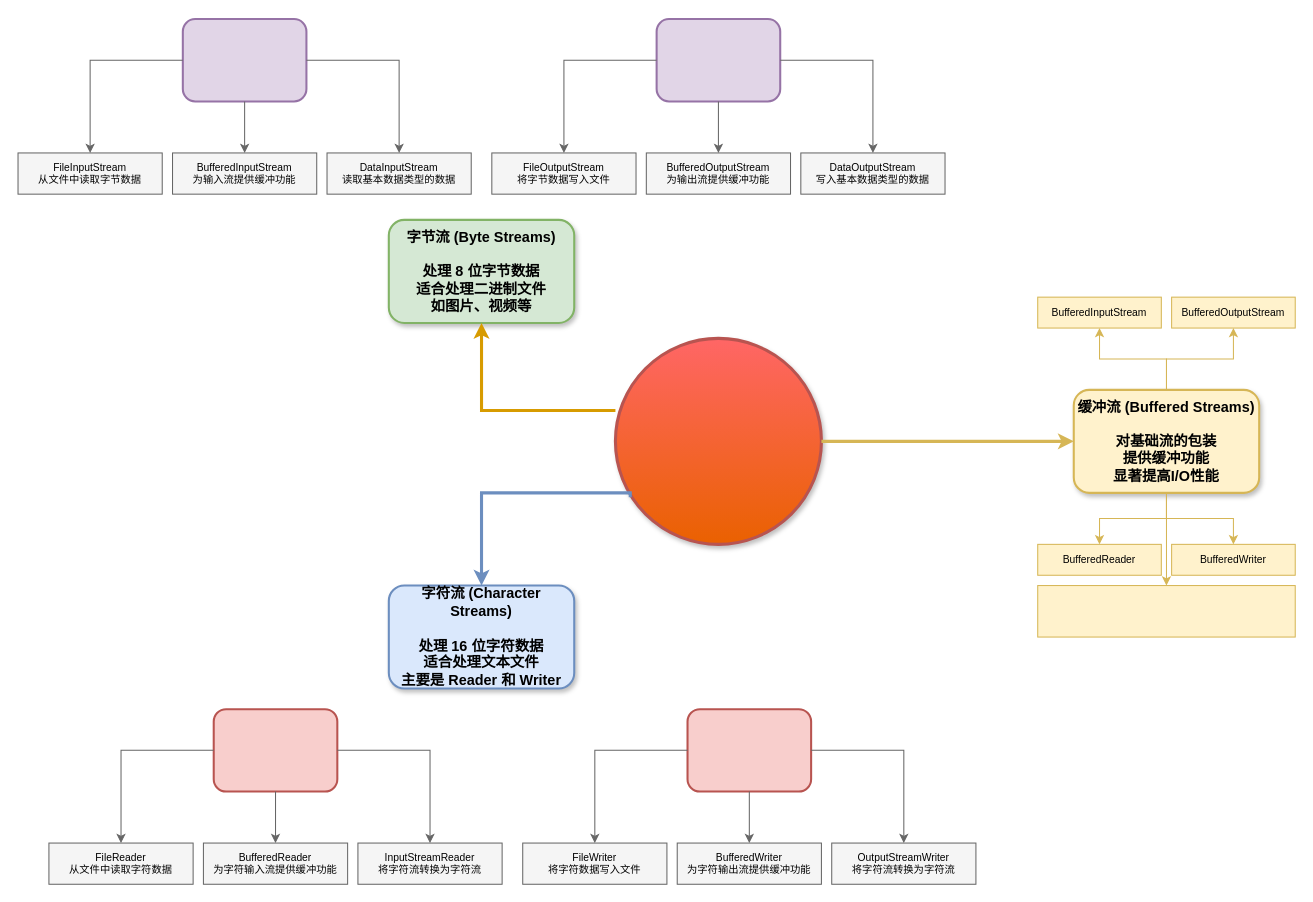
This 1313x902 diagram has some shape labels left out. The centre of each missing label's shape, as x and y in pixels:
InputStream 输入流 用于读取数据的流: point (244, 60)
Java I/O 流 (Input/Output Streams) 用于处理输入和输出数据的类库 支持多种输入源和输出目标: point (719, 442)
OutputStream 输出流 用于写入数据的流: point (718, 60)
Reader 字符输入流 用于读取字符数据: point (275, 750)
Writer 字符输出流 用于写入字符数据: point (749, 750)
性能优势： 通过内部缓冲区减少 实际I/O操作的次数: point (1166, 611)
